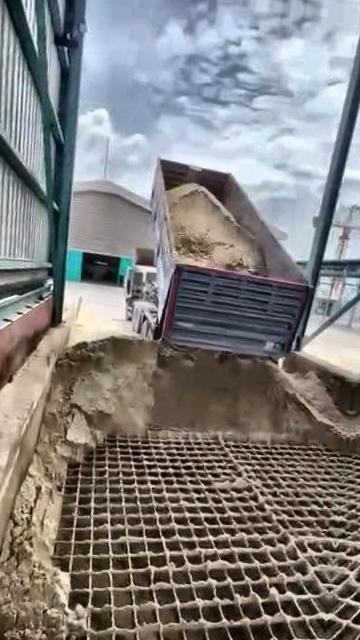sand: (0, 338, 343, 640), (168, 183, 266, 271), (287, 371, 351, 434)
